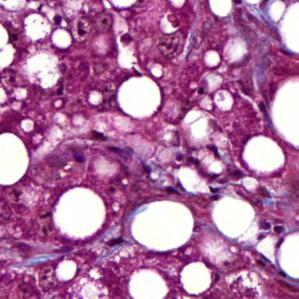steatosis: (131, 199, 195, 250), (51, 187, 108, 239), (241, 134, 287, 180), (117, 73, 162, 118)
